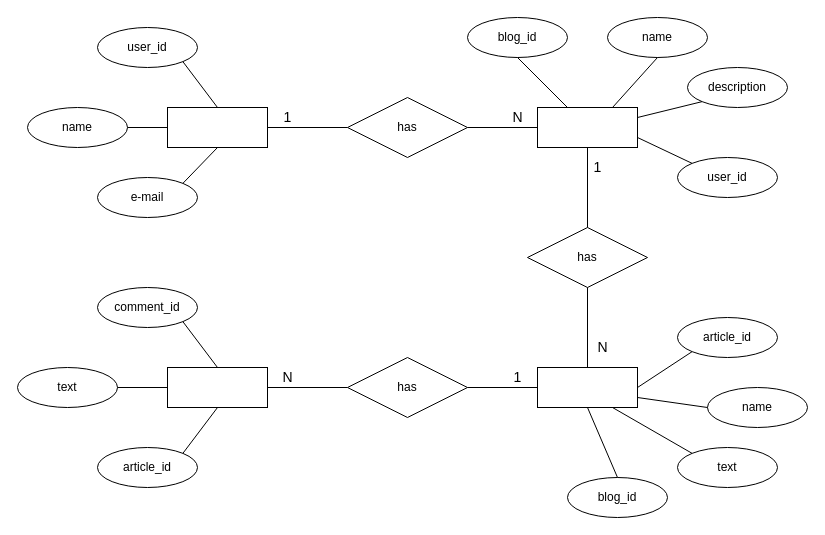
This 825x535 diagram has some shape labels left out. Each missing label, with the box of its shape:
Article: (536, 366, 638, 408)
Blog: (536, 106, 638, 148)
Comment: (166, 366, 268, 408)
User: (166, 106, 268, 148)
